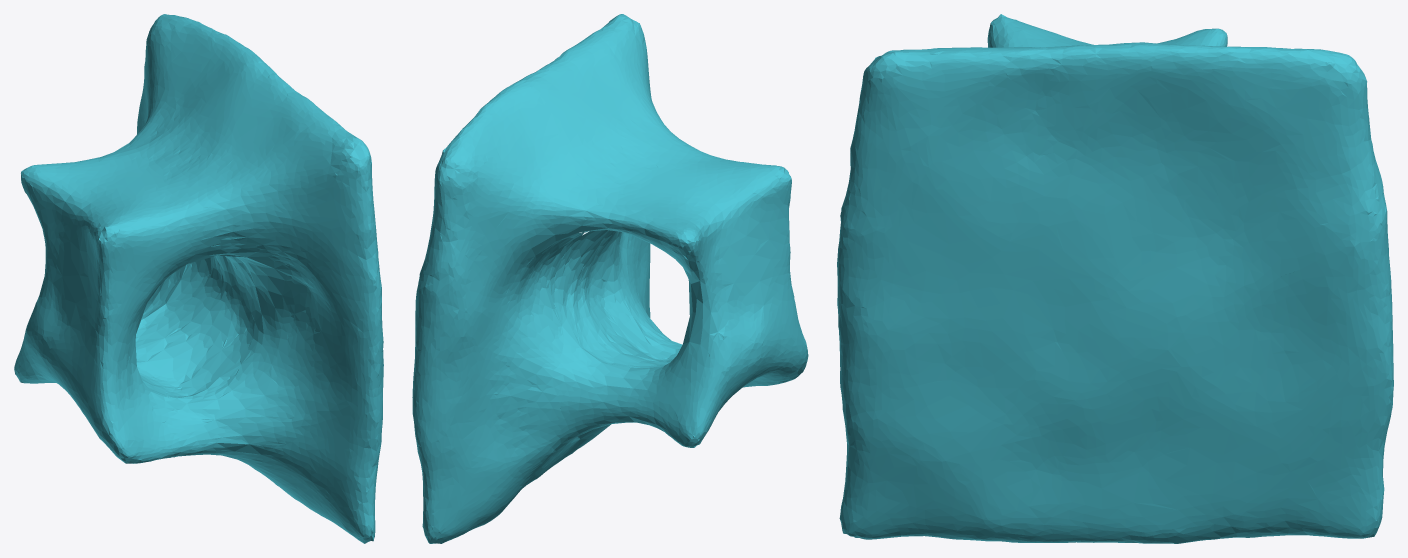
3 renders of one model, left to right at view 1: azimuth 30°, elevation 25°; view 2: azimuth 150°, elevation 25°; view 3: azimuth 270°, elevation 25°, orthographic. The views are drawn at different scales.
Parts seen in each view (by area): view 1: Renderer Node; view 2: Renderer Node; view 3: Renderer Node.
Boxes of the visible parts, x1,y1,x2,y2 form: Renderer Node: (14, 14, 383, 543); Renderer Node: (412, 14, 808, 543); Renderer Node: (837, 14, 1393, 543).
Bounding box in the file's own units: 0.3944 × 0.6278 × 0.6321.
Materials: 1 (1 with a texture image).
